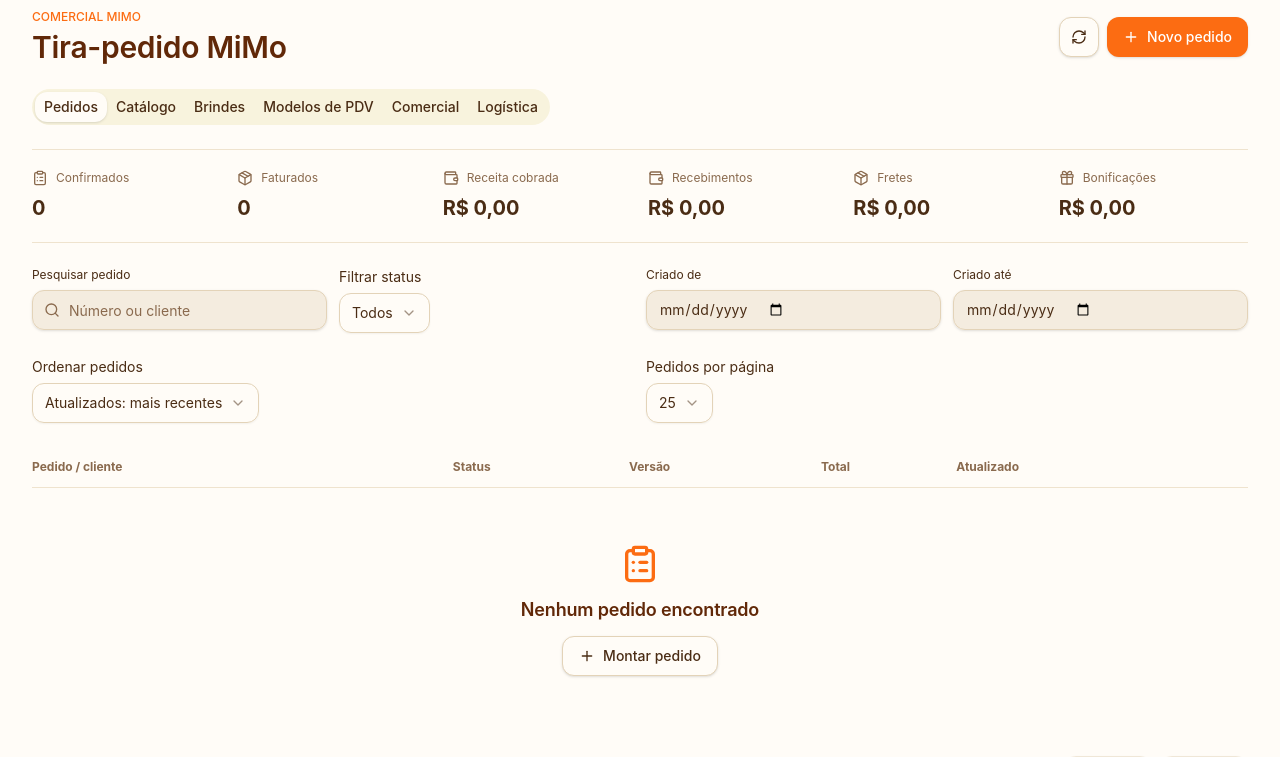
it: Tira-pedido · interface com servidor simulado › mostra os códigos por embalagem e usa na proposta o código da unidade vendida
This screenshot has width=1280, height=757.
Expected: the heading "Tira-pedido MiMo" is shown, [32,29,287,65]
Click the tab "Catálogo": (146, 107) [107,92,185,122]
(page scrolled)
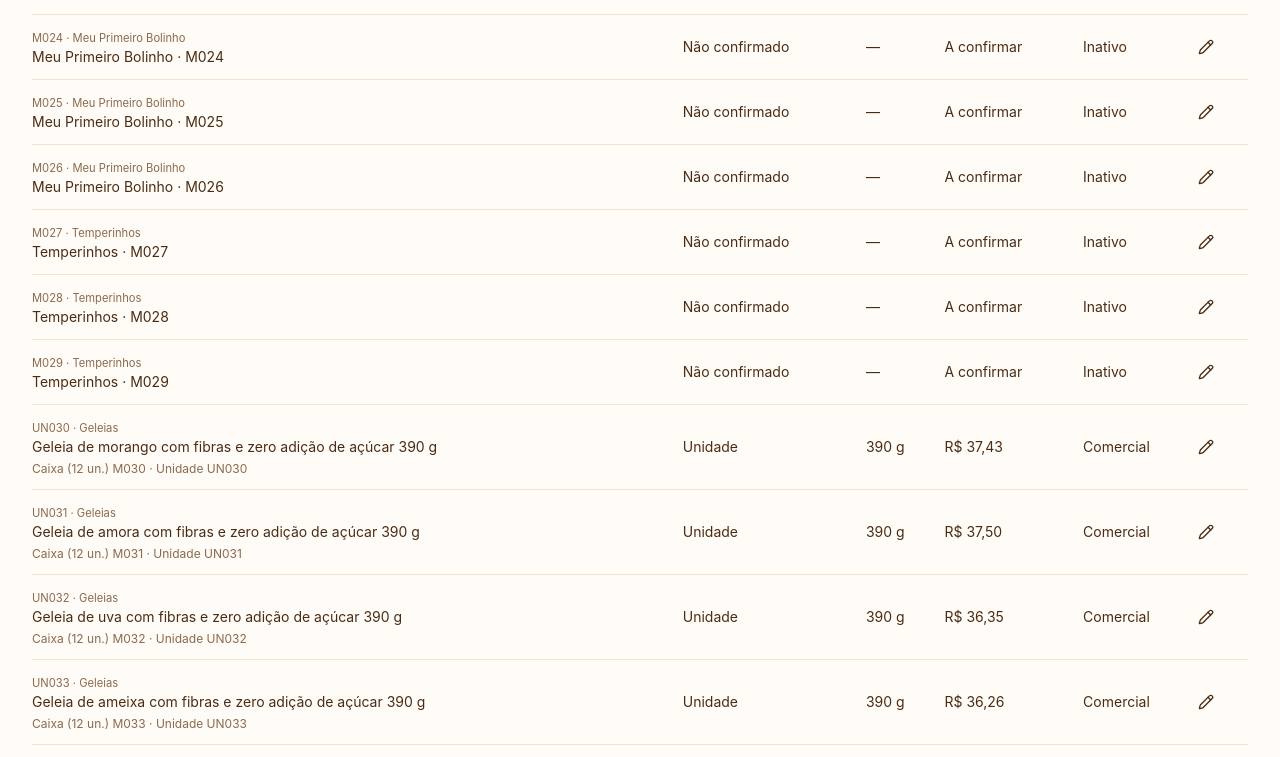
Now the text "Caixa (12 un.) M030 · Unidade UN030" is shown, box [32,461,247,476]
